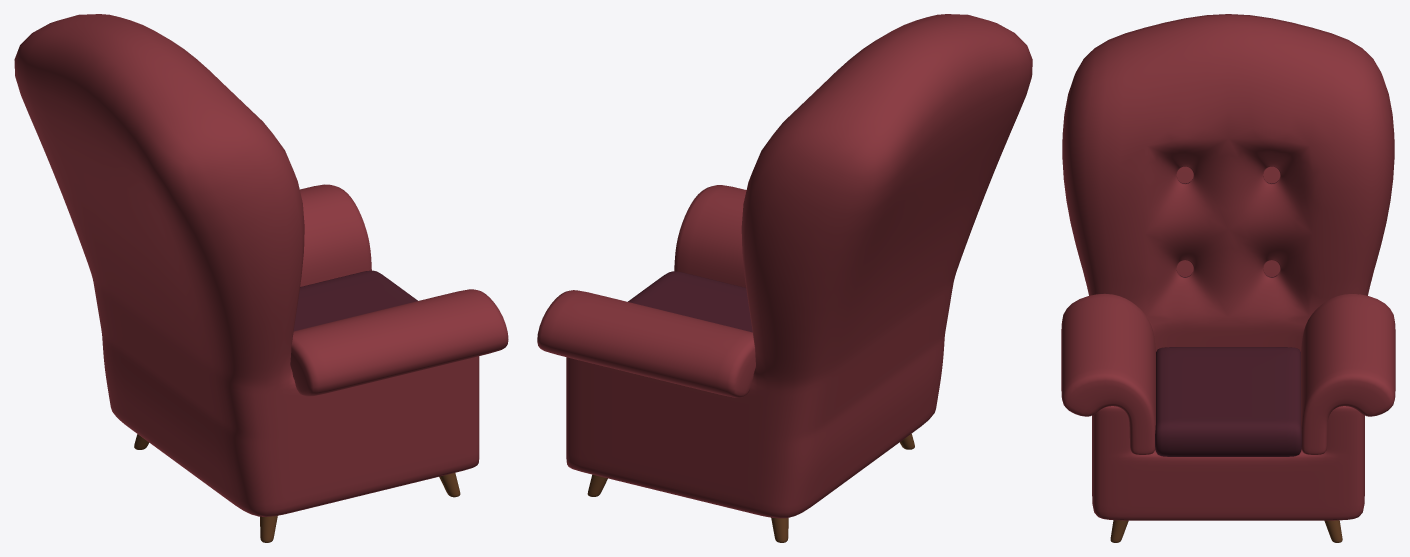
The model's file is armchair.glb.
The picture shows the model from 3 angles, left to right: view 1: azimuth 30°, elevation 25°; view 2: azimuth 150°, elevation 25°; view 3: azimuth 270°, elevation 25°; orthographic projection. The views are drawn at different scales.
Visible parts, largest first — view 1: Armchair; view 2: Armchair; view 3: Armchair.
Boxes of the visible parts, x1,y1,x2,y2 form: Armchair: [14, 14, 508, 542]; Armchair: [537, 14, 1032, 542]; Armchair: [1061, 14, 1395, 542].
Bounding box in the file's own units: 10.54 × 14.19 × 10.42.
